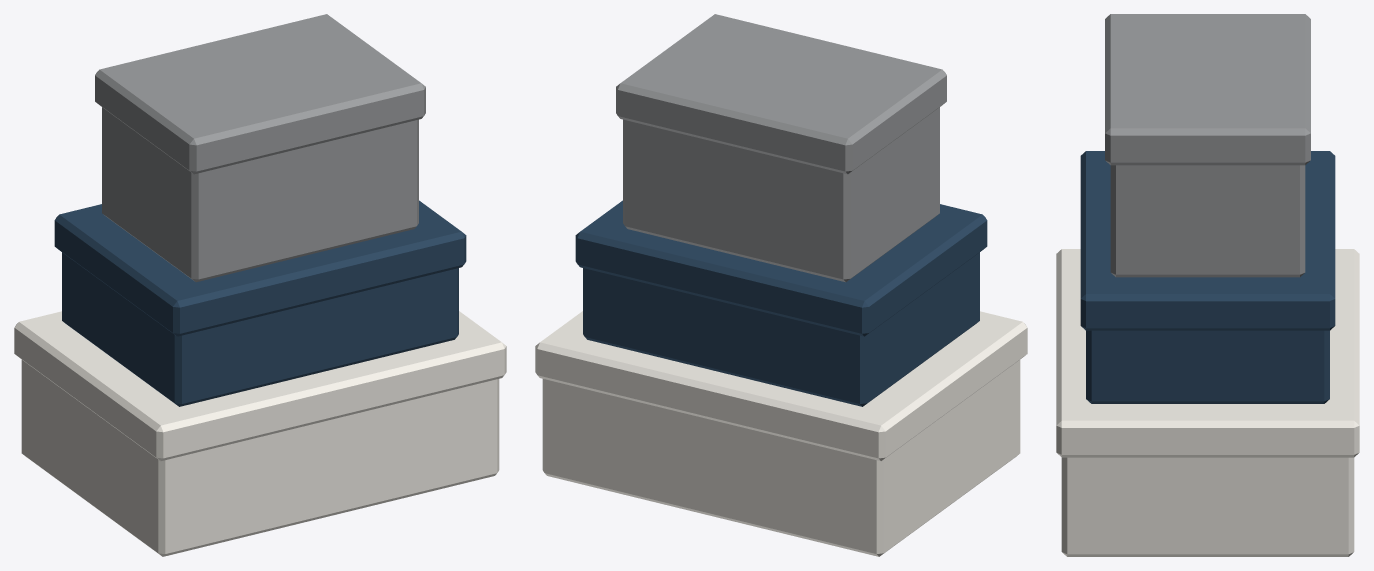
Rendered from i_boxes_0.glb.
3 renders of one model, left to right at view 1: azimuth 30°, elevation 25°; view 2: azimuth 150°, elevation 25°; view 3: azimuth 270°, elevation 25°, orthographic. The views are drawn at different scales.
Parts seen in each view (by area): view 1: o.004, o, o.002, o.001, o.003, o.005; view 2: o.004, o, o.002, o.001, o.003, o.005; view 3: o.004, o, o.002, o.003, o.001, o.005.
Part boxes in pixels (box(x1,y1,x2,y2)): o.004: box(102, 17, 418, 282); o: box(21, 314, 499, 556); o.002: box(62, 205, 458, 406); o.001: box(14, 311, 506, 460); o.003: box(54, 200, 466, 336); o.005: box(95, 14, 425, 174); o.004: box(623, 17, 939, 282); o: box(542, 314, 1020, 556); o.002: box(583, 205, 979, 406); o.001: box(535, 311, 1027, 460); o.003: box(575, 200, 987, 336); o.005: box(616, 14, 946, 174); o.004: box(1110, 16, 1305, 277); o: box(1061, 251, 1354, 556); o.002: box(1086, 153, 1329, 403); o.003: box(1080, 151, 1335, 330); o.001: box(1056, 249, 1359, 457); o.005: box(1105, 14, 1310, 165).
Bounding box in the file's own units: 0.308 × 0.3278 × 0.224.
